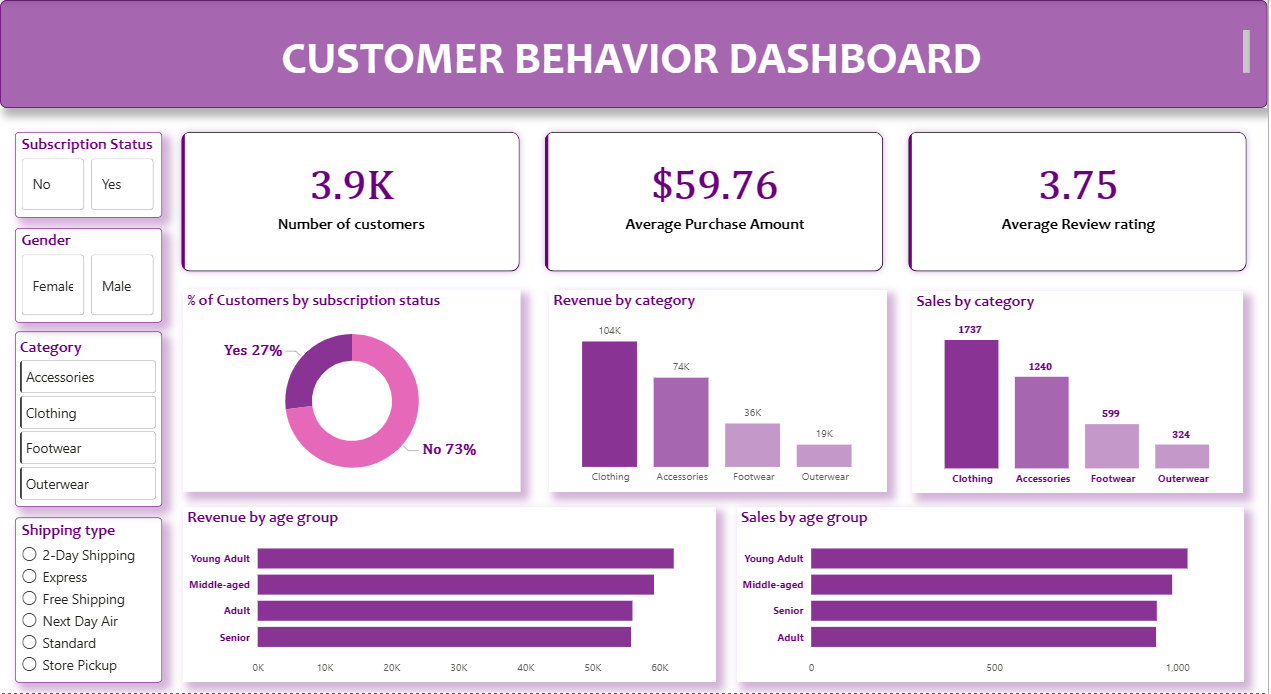

What the dashboard file says about the page in this screenshot:
{"tool":"powerbi","page":{"name":"Page 1","canvas":[1500,820],"ordinal":0},"visuals":[{"type":"cardVisual","fields":{"Data":["customers.Number of customers","customers.Average Purchase Amount","customers.Average Review rating"]},"box":[191.6,127.8,1307.8,221.8],"z":0},{"type":"shape","box":[0,0,1499.4,127.8],"z":1000},{"type":"textbox","box":[17.7,30.2,1465.7,67.4],"z":2000},{"type":"donutChart","title":"% of Customers by subscription status","fields":{"Y":["CountNonNull(customers.customer_id)"],"Category":["customers.subscription_status"]},"box":[216.5,342.5,399.3,239.6],"z":3000},{"type":"clusteredColumnChart","title":"Revenue by category","fields":{"Y":["Sum(customers.purchase_amount)"],"Category":["customers.category"]},"box":[649.5,342.5,399.3,239.6],"z":4000},{"type":"clusteredColumnChart","title":"Sales by category","fields":{"Category":["customers.category"],"Y":["CountNonNull(customers.customer_id)"]},"box":[1078.9,344.2,392.2,239.6],"z":5000},{"type":"advancedSlicerVisual","fields":{"Values":["customers.subscription_status"]},"box":[17.7,156.2,173.9,101.1],"z":6000},{"type":"advancedSlicerVisual","fields":{"Values":["customers.gender"]},"box":[17.7,269.7,173.9,111.8],"z":7000},{"type":"advancedSlicerVisual","fields":{"Values":["customers.category"]},"box":[17.7,392.2,173.9,207.6],"z":8000},{"type":"listSlicer","fields":{"Values":["customers.shipping_type"]},"box":[17.7,612.2,173.9,195.2],"z":8001},{"type":"clusteredBarChart","title":"Revenue by age group","fields":{"Y":["Sum(customers.purchase_amount)"],"Category":["customers.age_group"]},"box":[216.5,599.8,629.9,207.6],"z":8002},{"type":"clusteredBarChart","title":"Sales by age group","fields":{"Y":["CountNonNull(customers.customer_id)"],"Category":["customers.age_group"]},"box":[871.3,599.8,599.8,207.6],"z":8003}]}

Visuals, with their boxes in screenshot pixels (x1, y1, x2, y2), scaled from the page's 1500x820 canvas onto the 1271x694 screenshot:
cardVisual - customers.Number of customers x customers.Average Purchase Amount: x1=162, y1=108, x2=1270, y2=296
shape: x1=0, y1=0, x2=1270, y2=108
textbox: x1=15, y1=26, x2=1257, y2=83
"% of Customers by subscription status" donutChart: x1=183, y1=290, x2=522, y2=493
"Revenue by category" clusteredColumnChart: x1=550, y1=290, x2=889, y2=493
"Sales by category" clusteredColumnChart: x1=914, y1=291, x2=1247, y2=494
advancedSlicerVisual - customers.subscription_status: x1=15, y1=132, x2=162, y2=218
advancedSlicerVisual - customers.gender: x1=15, y1=228, x2=162, y2=323
advancedSlicerVisual - customers.category: x1=15, y1=332, x2=162, y2=508
listSlicer - customers.shipping_type: x1=15, y1=518, x2=162, y2=683
"Revenue by age group" clusteredBarChart: x1=183, y1=508, x2=717, y2=683
"Sales by age group" clusteredBarChart: x1=738, y1=508, x2=1247, y2=683
